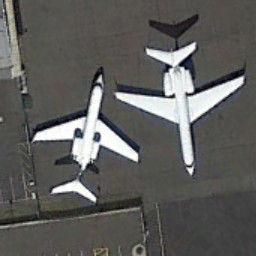Airplane: (27, 59, 144, 223), (114, 37, 249, 179)
